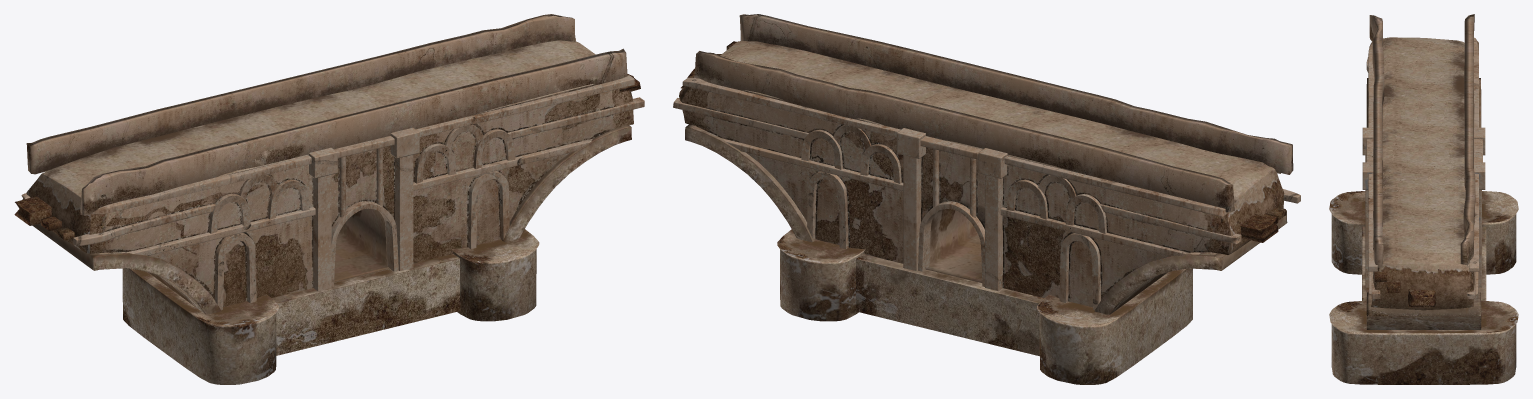
File: ancient_greek_bridge_1.glb
The picture shows the model from 3 angles, left to right: view 1: azimuth 30°, elevation 25°; view 2: azimuth 150°, elevation 25°; view 3: azimuth 270°, elevation 25°; orthographic projection. The views are drawn at different scales.
Parts seen in each view (by area): view 1: Road_wall, bottom, Fram; view 2: Road_wall, bottom, Fram; view 3: Road_wall, bottom, Fram.
Part boxes in pixels (left/top/right/bottom): Road_wall: left=26, top=14, right=633, bottom=306; bottom: left=14, top=74, right=640, bottom=384; Fram: left=21, top=38, right=644, bottom=310; Road_wall: left=679, top=14, right=1293, bottom=307; bottom: left=681, top=41, right=1287, bottom=384; Fram: left=673, top=37, right=1300, bottom=309; Road_wall: left=1369, top=14, right=1475, bottom=310; bottom: left=1329, top=78, right=1518, bottom=384; Fram: left=1362, top=37, right=1485, bottom=299.
Bounding box in the file's own units: 3289 × 1138 × 1044.
Materials: 3 (3 with a texture image).
